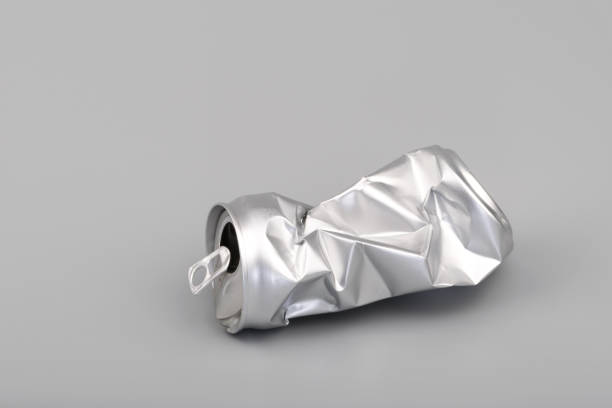can: (186, 142, 515, 336)
